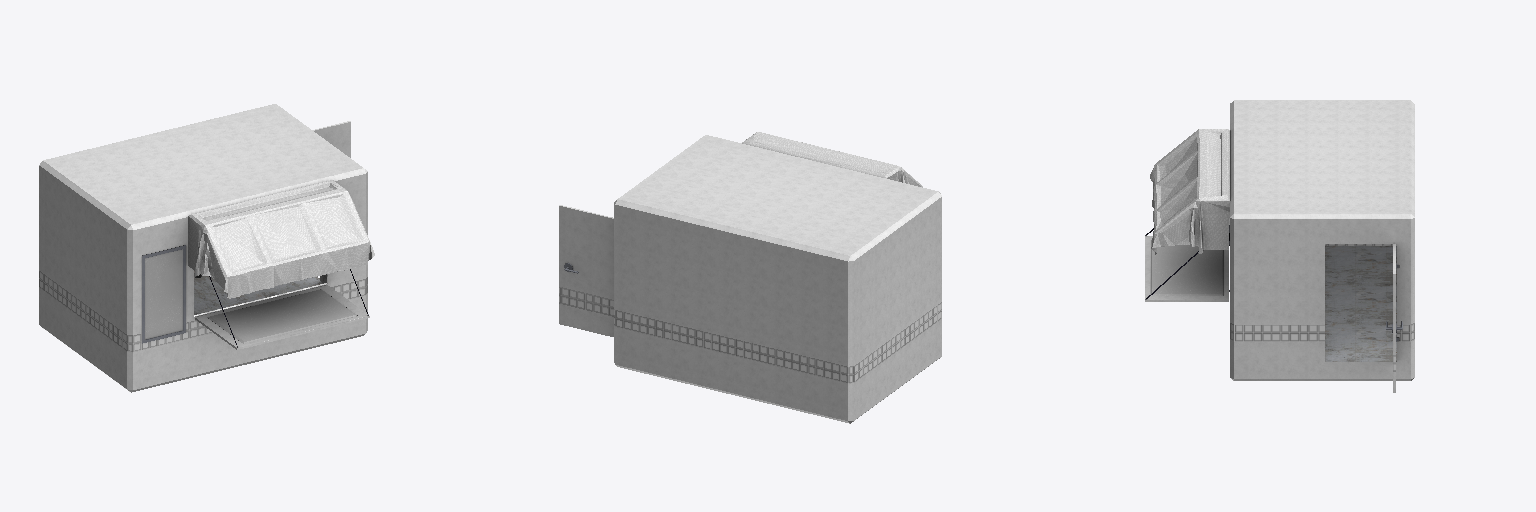
3 views of the same model, side by side, from view 1: azimuth 30°, elevation 25°; view 2: azimuth 150°, elevation 25°; view 3: azimuth 270°, elevation 25° (orthographic).
Visible parts, largest first — view 1: foodtruck_base; view 2: foodtruck_base; view 3: foodtruck_base.
Part boxes in pixels (x1,y1,x2,y2): foodtruck_base: (39,104,374,392); foodtruck_base: (559,132,941,423); foodtruck_base: (1145,100,1414,392).
Size of the model in its own units: 3.78 by 2 by 2.92.
Materials: 2 (2 with a texture image).